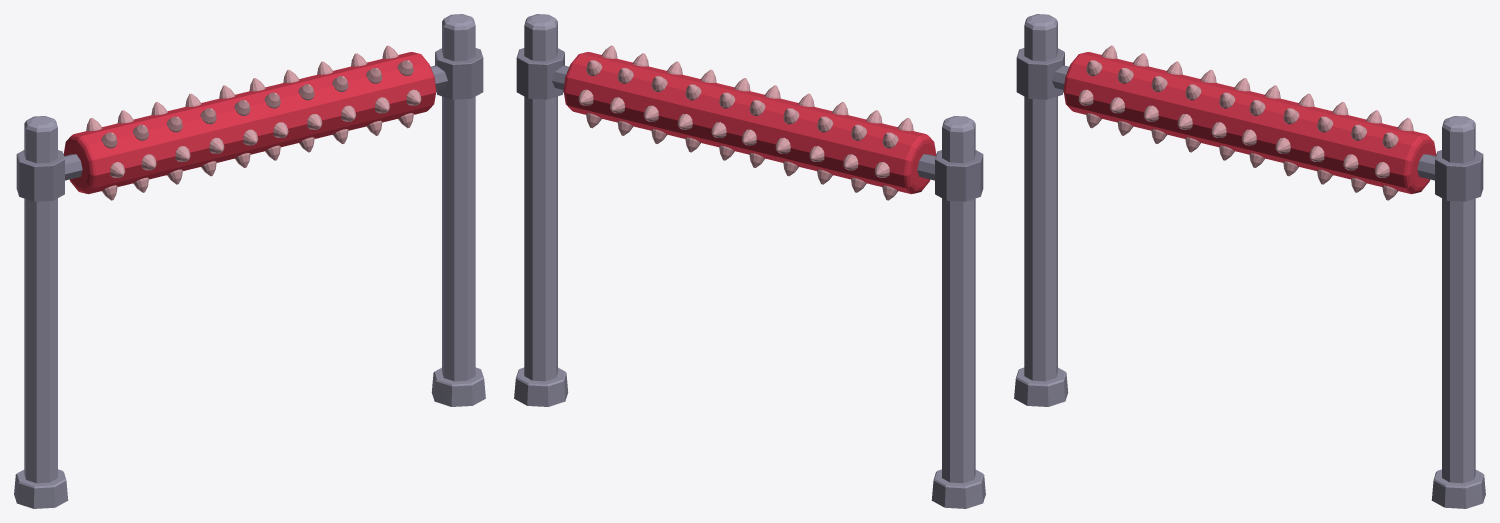
Rendered from Hurdle26.fbx.
3 views of the same model, side by side, from view 1: azimuth 30°, elevation 25°; view 2: azimuth 150°, elevation 25°; view 3: azimuth 330°, elevation 25° (orthographic).
Parts seen in each view (by area): view 1: Hurdle26; view 2: Hurdle26; view 3: Hurdle26.
Boxes of the visible parts, x1,y1,x2,y2 form: Hurdle26: (14,14,485,508); Hurdle26: (514,14,985,508); Hurdle26: (1014,14,1485,508).
Bounding box in the file's own units: 5.94 × 4.59 × 0.9389.
Materials: 1 (1 with a texture image).
